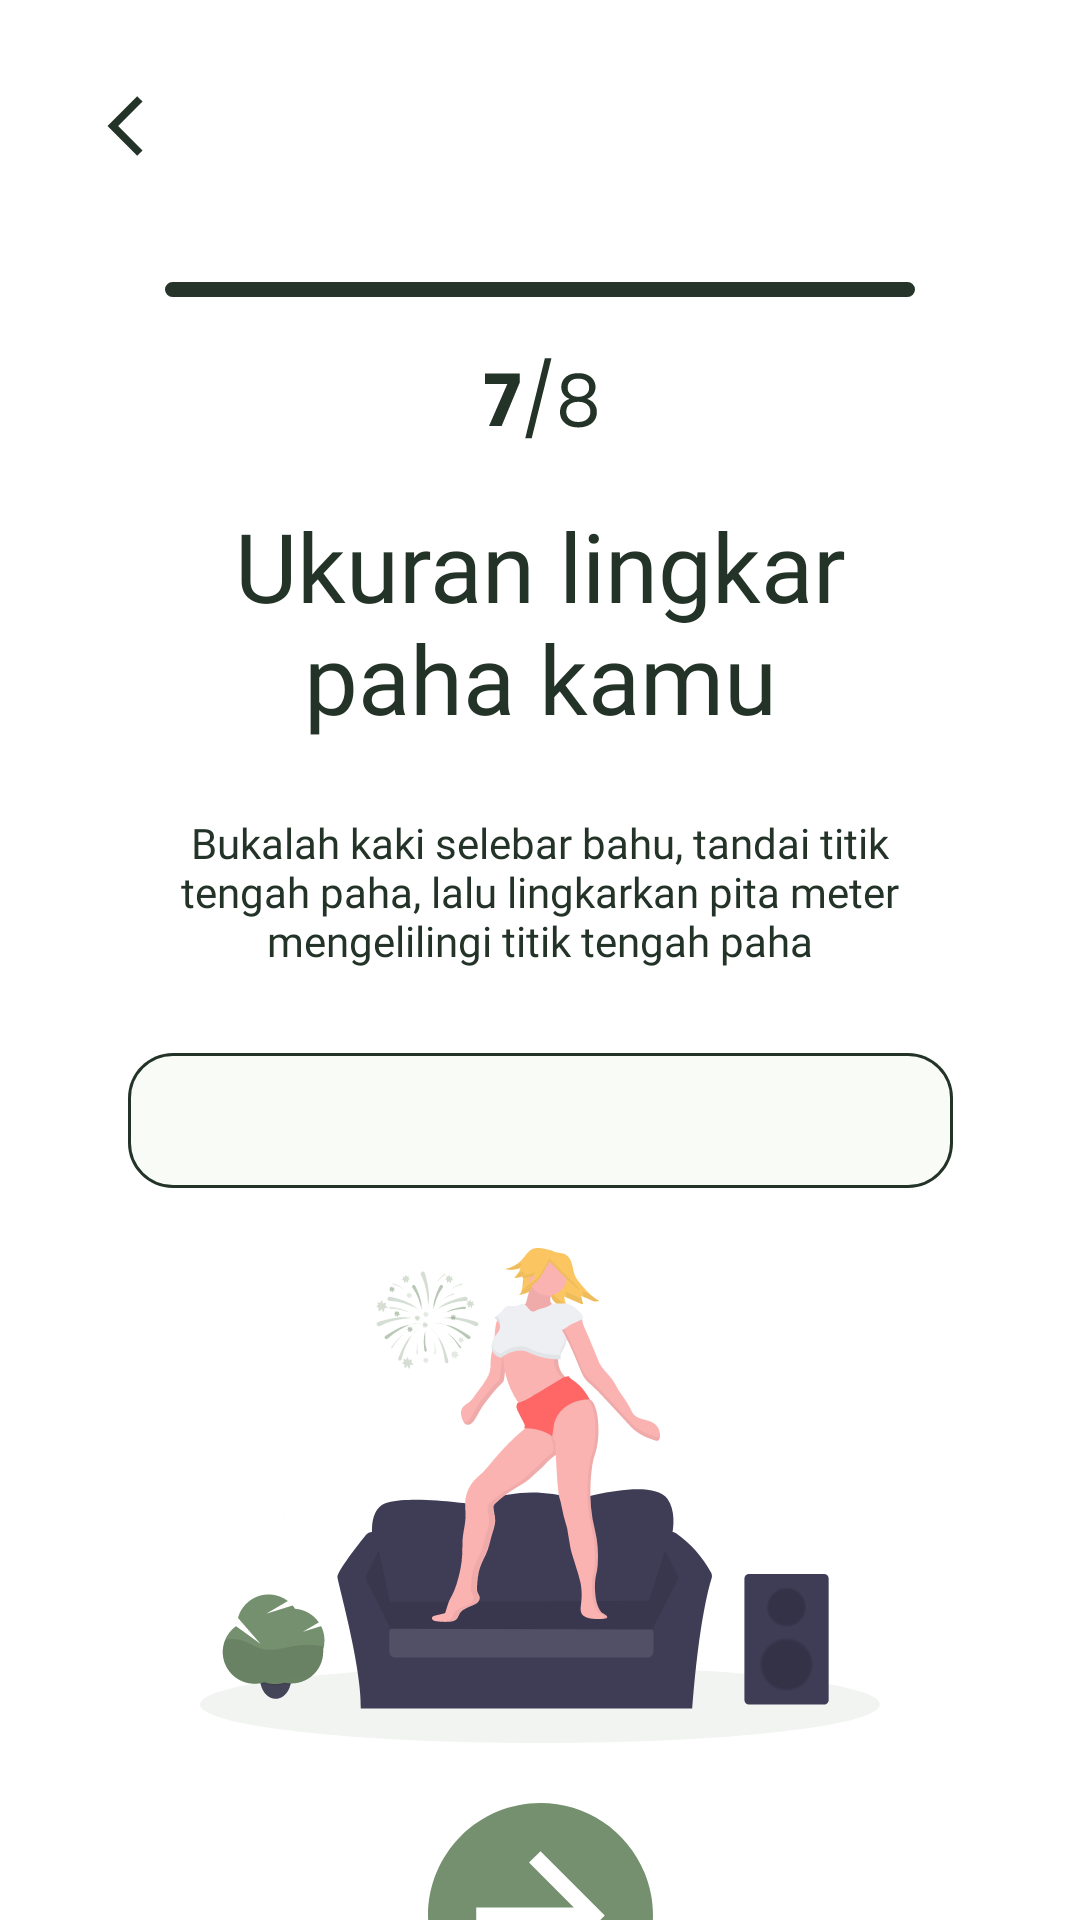

Icon click points for this 1080*1920 phone screenshot, format (x=x, y=y):
back: (x=125, y=126)
